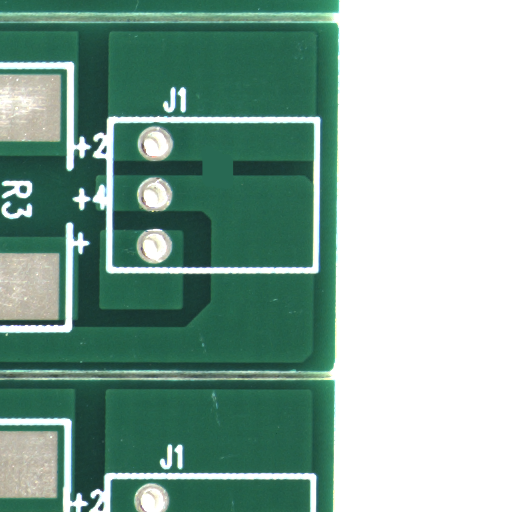Short: (216, 169, 268, 201)
